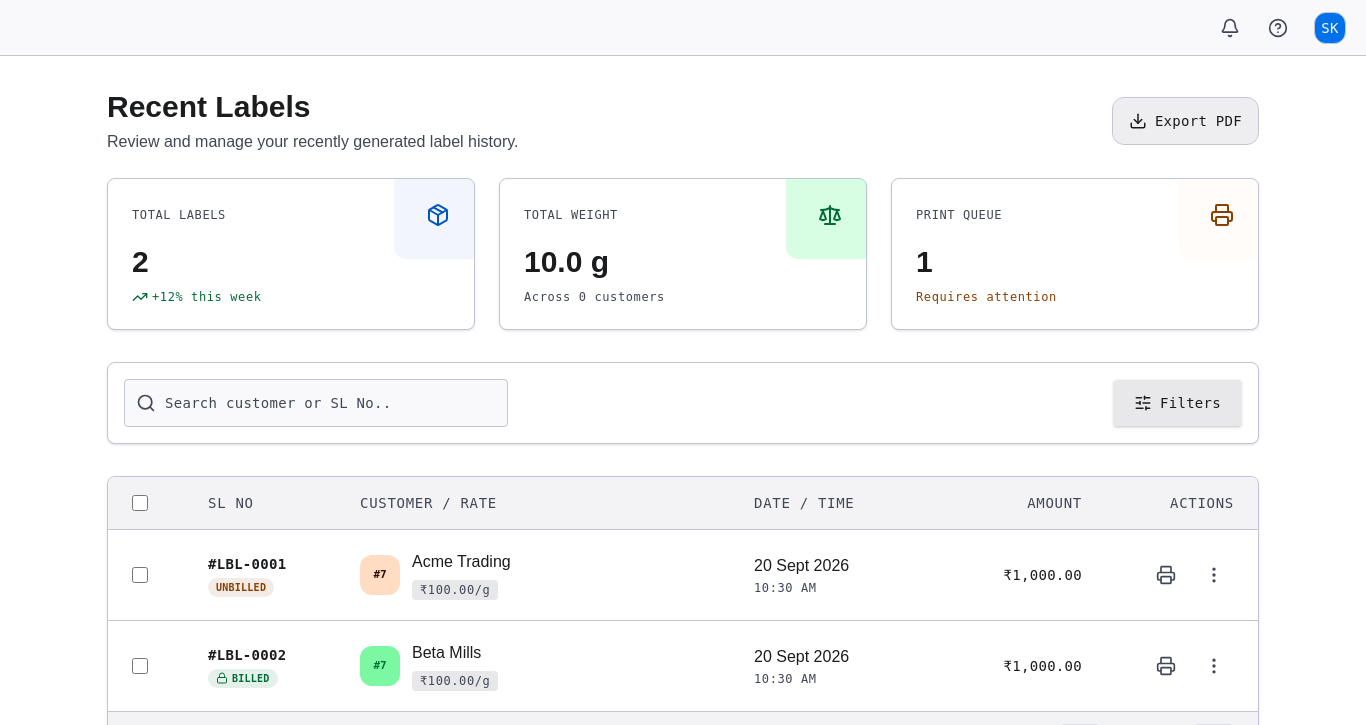
Test: Dashboard bulk actions › reports no status change when the selection needed no flip (billed/already printed)
What coordinates should you click on to do the following:
click the checkbox named "Select label LBL-0002"
I would click on:
 (140, 666)
Its box is [132,658,148,674].
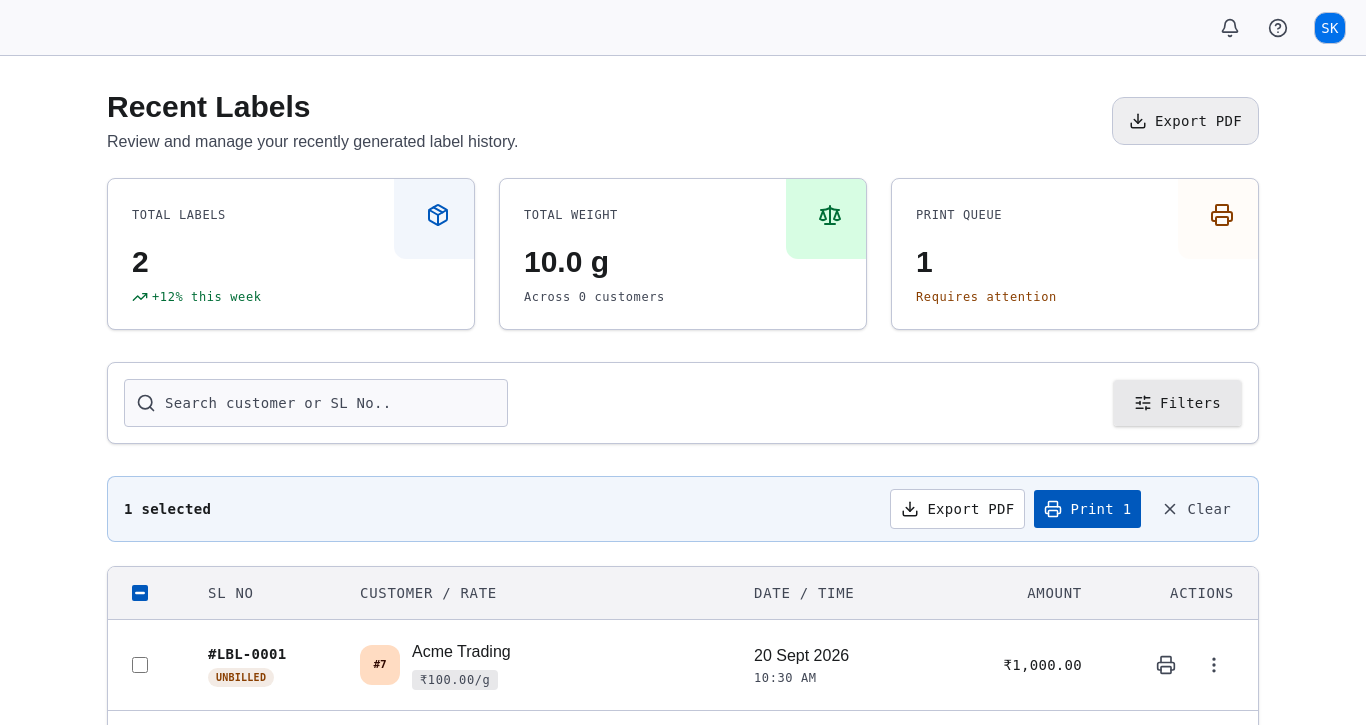
What coordinates should you click on to do the following:
click the button "Print 1"
I would click on:
 (1088, 509)
Its box is [1034,489,1142,529].
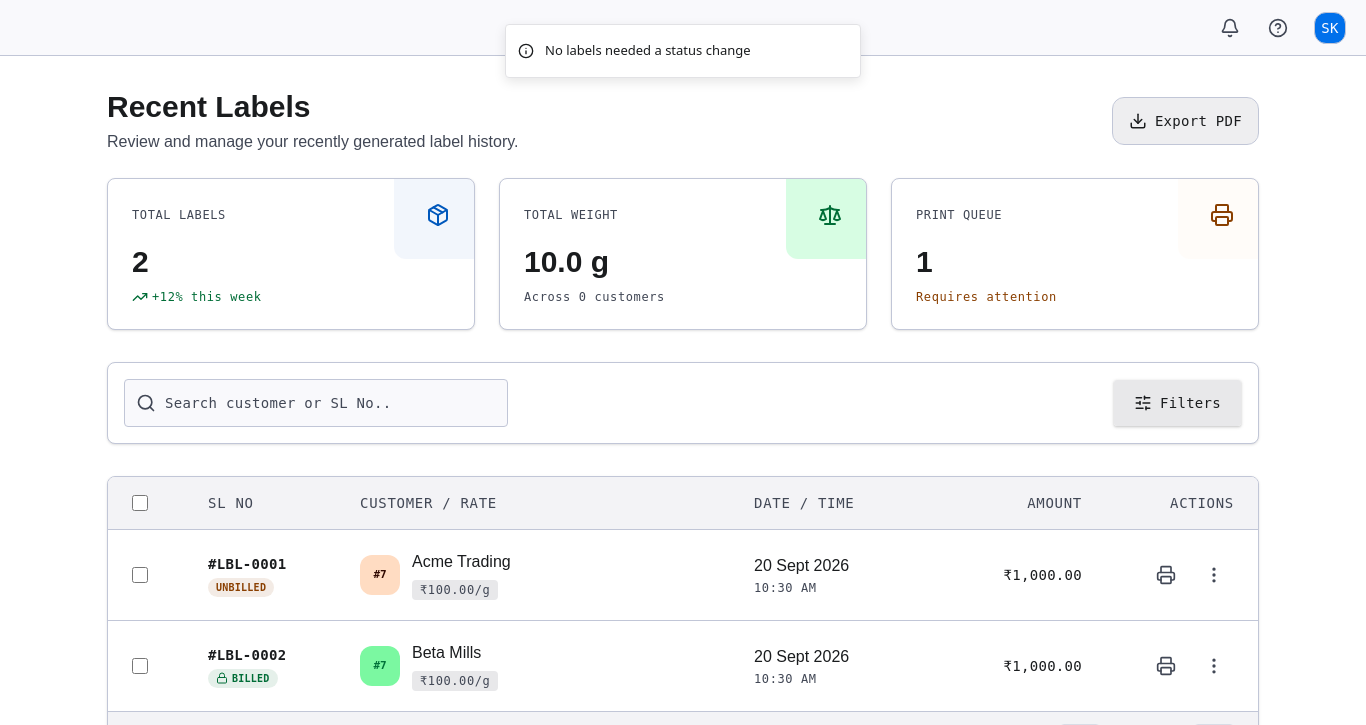
Result: the text "No labels needed a status change" is shown at [545,41,751,60]
